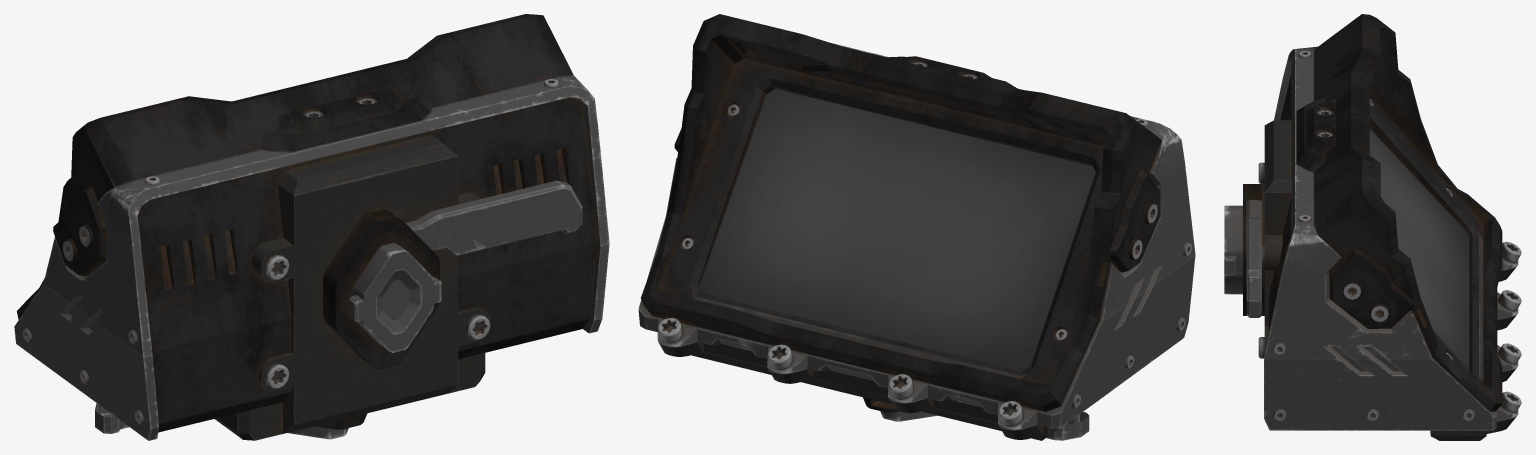
File: Screen_7.glb
3 views of the same model, side by side, from view 1: azimuth 30°, elevation 25°; view 2: azimuth 150°, elevation 25°; view 3: azimuth 270°, elevation 25° (orthographic). The views are drawn at different scales.
Parts seen in each view (by area): view 1: Screen_7; view 2: Screen_7, Screen_Display_7; view 3: Screen_7, Screen_Display_7.
Part boxes in pixels (x1,y1,x2,y2): Screen_7: (14, 14, 609, 440); Screen_7: (638, 14, 1195, 440); Screen_Display_7: (699, 89, 1095, 371); Screen_7: (1224, 14, 1521, 440); Screen_Display_7: (1369, 128, 1469, 370).
Size of the model in its own units: 0.0961 by 0.0681 by 0.0612.
Materials: 2 (2 with a texture image).
